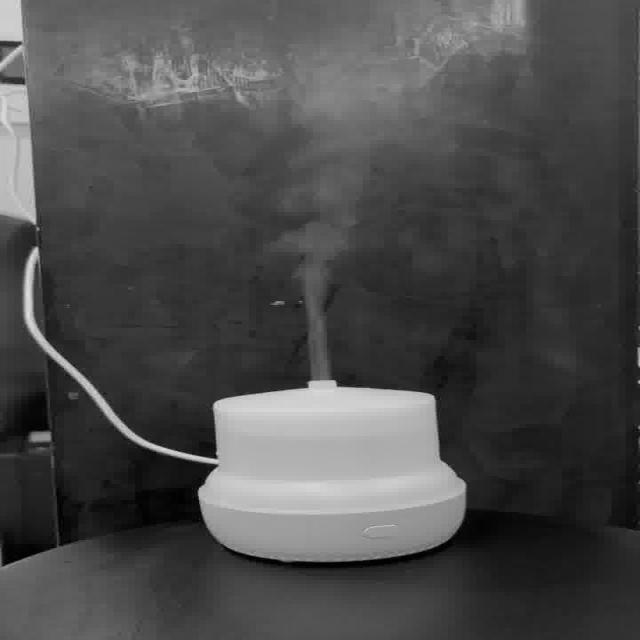fire: (274, 72, 441, 378)
